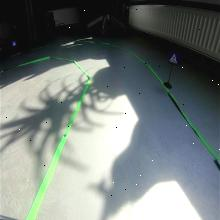crosswalk: (169, 51, 179, 65)
